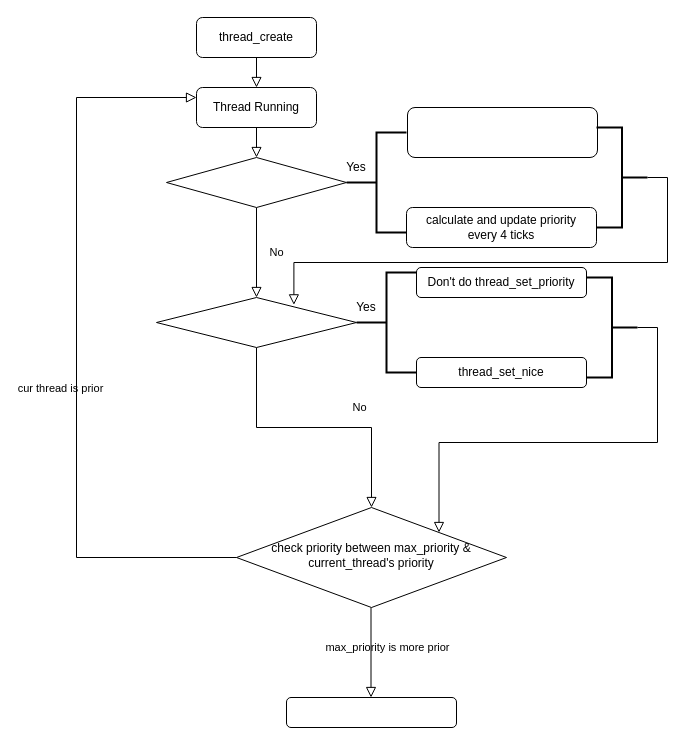
The diagram is 695 pixels wide and 745 high, and some of its shapes have lost their labels. Here are the shapes that lost their labels. From the top down, the centre of each, then its label:
the point at 502,132: calculate and update recent_cpu/load_avg every TIMER_FREQ
the point at 256,182: thread_prior_aging
the point at 256,322: thread_mlfqs
the point at 371,712: thread_yield()
